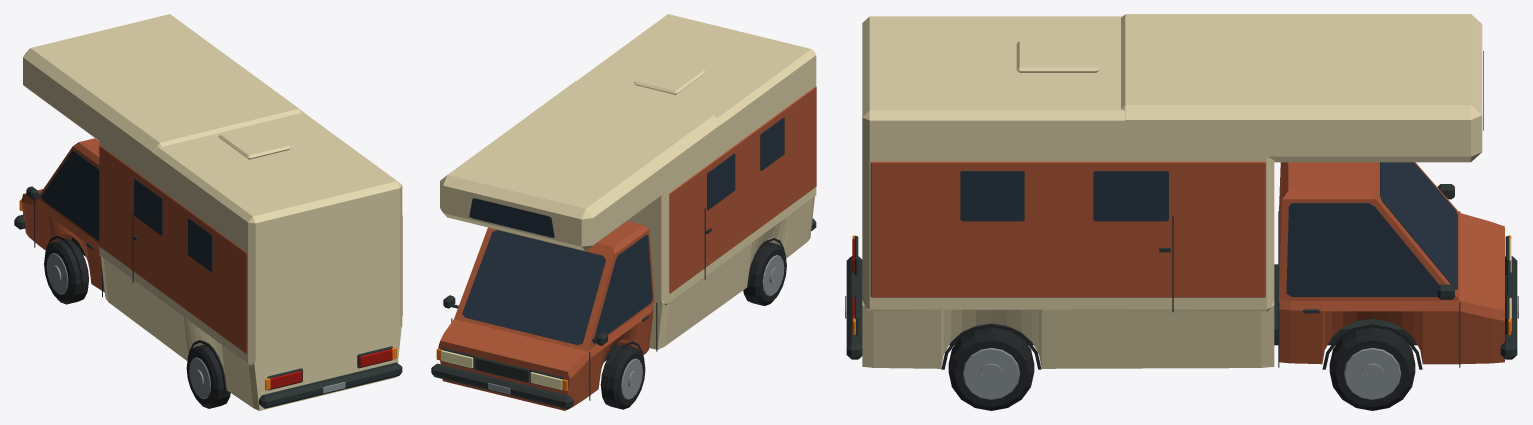
File: 19_SmallCamper.fbx
3 renders of one model, left to right at view 1: azimuth 30°, elevation 25°; view 2: azimuth 150°, elevation 25°; view 3: azimuth 270°, elevation 25°, orthographic. The views are drawn at different scales.
Visible parts, largest first — view 1: Cream camper accommodation, Camper overcab sleeping extension, Terracotta camper side inset, Continuous body with open wheel arches.021, Side glass -1 pane 0.016, Continuous body with open wheel arches.020, Moulded bumper.037, WheelFL_ShapedSidewall.018, Camper roof hatch, WheelRL_ShapedSidewall.018, Camper side opaque window.001, Camper side opaque window (+5 smaller); view 2: Camper overcab sleeping extension, Cream camper accommodation, Terracotta camper side inset, Framed opaque windshield.018, Continuous body with open wheel arches.020, Continuous body with open wheel arches.021, Raked cabin with chamfered roof.018, Side glass -1 pane 0.016, Moulded bumper.036, Overcab front window, WheelFL_ShapedSidewall.018, Camper roof hatch (+8 smaller); view 3: Camper overcab sleeping extension, Terracotta camper side inset.001, Cream camper accommodation, Continuous body with open wheel arches.021, Continuous body with open wheel arches.020, Side glass 1 pane 0.016, Raked cabin with chamfered roof.018, Framed opaque windshield.018, Camper side opaque window.003, WheelFR_ShapedSidewall.018, WheelRR_ShapedSidewall.018, Camper side opaque window.002 (+6 smaller).
Boxes of the visible parts, <box> form: Cream camper accommodation: <box>99,111,402,365</box>; Camper overcab sleeping extension: <box>23,14,303,178</box>; Terracotta camper side inset: <box>99,145,247,353</box>; Continuous body with open wheel arches.021: <box>100,256,401,410</box>; Side glass -1 pane 0.016: <box>41,151,99,240</box>; Continuous body with open wheel arches.020: <box>21,189,104,292</box>; Moulded bumper.037: <box>259,362,402,408</box>; WheelFL_ShapedSidewall.018: <box>44,239,88,304</box>; Camper roof hatch: <box>218,125,290,159</box>; WheelRL_ShapedSidewall.018: <box>186,343,230,408</box>; Camper side opaque window.001: <box>134,179,162,235</box>; Camper side opaque window: <box>188,218,212,272</box>; Camper overcab sleeping extension: <box>440,81,721,251</box>; Cream camper accommodation: <box>576,14,816,305</box>; Terracotta camper side inset: <box>669,86,816,293</box>; Framed opaque windshield.018: <box>462,230,605,345</box>; Continuous body with open wheel arches.020: <box>438,304,653,410</box>; Continuous body with open wheel arches.021: <box>649,197,814,349</box>; Raked cabin with chamfered roof.018: <box>454,221,654,351</box>; Side glass -1 pane 0.016: <box>593,234,652,343</box>; Moulded bumper.036: <box>431,363,573,409</box>; Overcab front window: <box>469,198,554,237</box>; WheelFL_ShapedSidewall.018: <box>600,344,645,409</box>; Camper roof hatch: <box>634,60,705,94</box>; Camper overcab sleeping extension: <box>1121,14,1482,162</box>; Terracotta camper side inset.001: <box>870,161,1265,297</box>; Cream camper accommodation: <box>862,16,1274,311</box>; Continuous body with open wheel arches.021: <box>862,300,1274,368</box>; Continuous body with open wheel arches.020: <box>1279,213,1504,364</box>; Side glass 1 pane 0.016: <box>1286,203,1439,296</box>; Raked cabin with chamfered roof.018: <box>1279,162,1459,300</box>; Framed opaque windshield.018: <box>1380,162,1457,289</box>; Camper side opaque window.003: <box>1093,171,1168,221</box>; WheelFR_ShapedSidewall.018: <box>1329,327,1415,410</box>; WheelRR_ShapedSidewall.018: <box>948,327,1034,410</box>; Camper side opaque window.002: <box>960,171,1024,221</box>.
Bounding box in the file's own units: 223 × 300 × 598.
